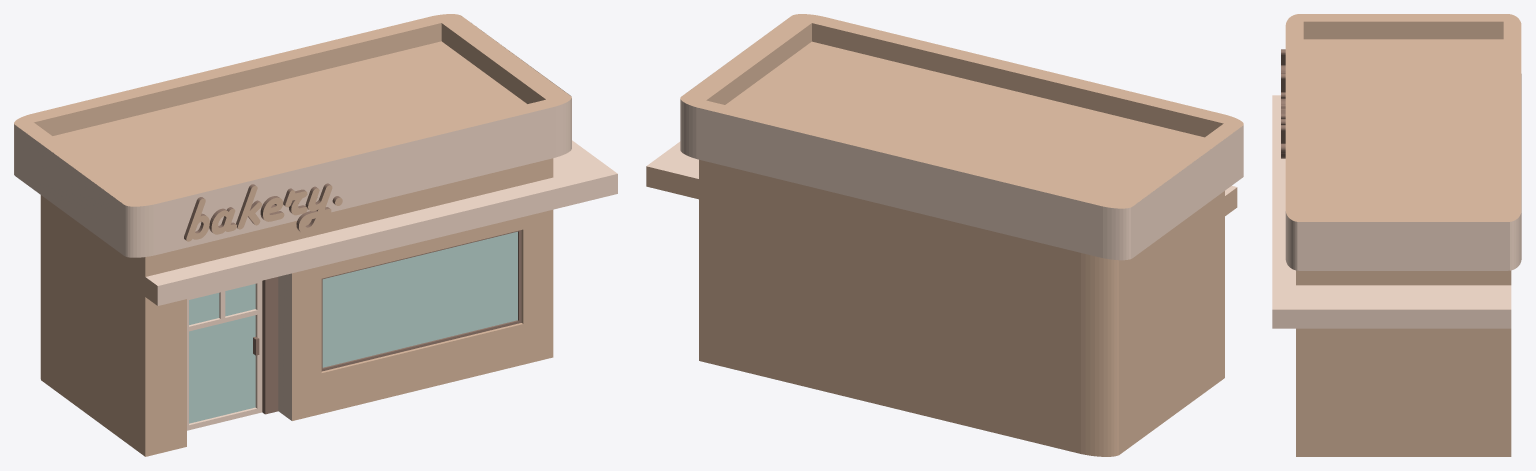
The model's file is bakery.glb.
3 renders of one model, left to right at view 1: azimuth 30°, elevation 25°; view 2: azimuth 150°, elevation 25°; view 3: azimuth 270°, elevation 25°, orthographic. The views are drawn at different scales.
Visible parts, largest first — view 1: body; view 2: body; view 3: body.
Part boxes in pixels (x1=…): body: x1=14, y1=14, x2=617, y2=456; body: x1=646, y1=14, x2=1243, y2=456; body: x1=1272, y1=14, x2=1521, y2=456.
Size of the model in its own units: 7.56 by 3.85 by 3.57.
